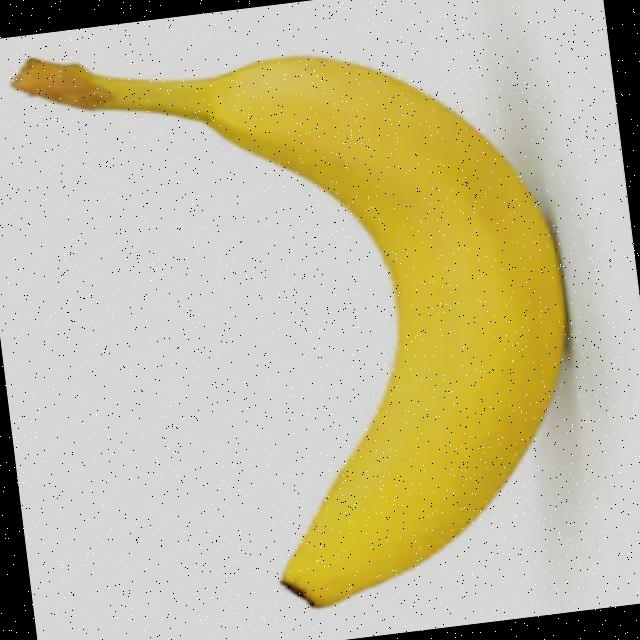banana: (9, 0, 601, 635)
